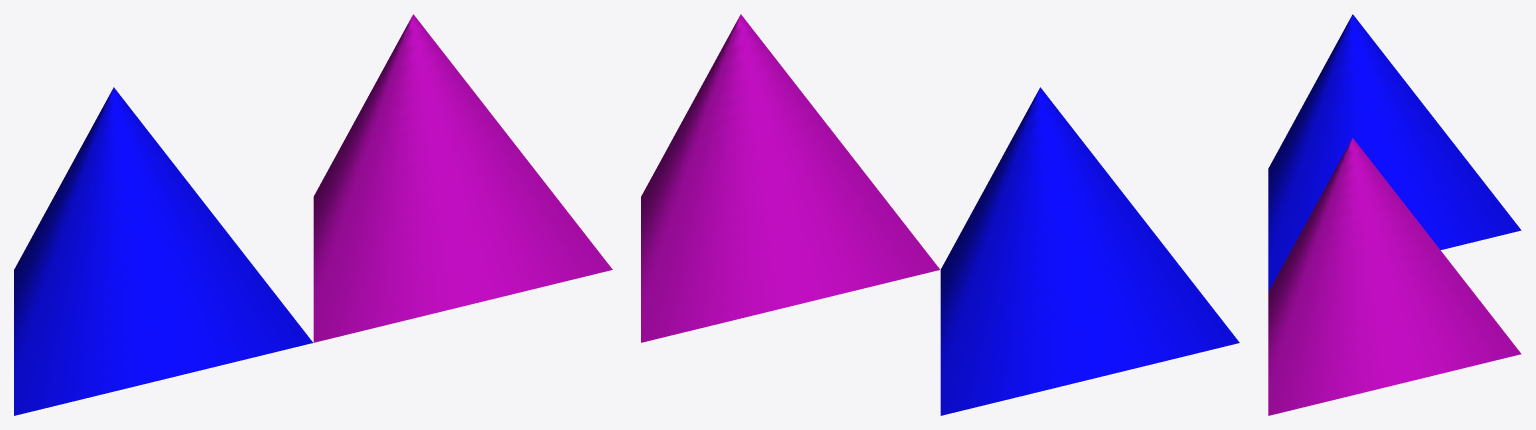
The picture shows the model from 3 angles, left to right: view 1: azimuth 30°, elevation 25°; view 2: azimuth 150°, elevation 25°; view 3: azimuth 270°, elevation 25°; orthographic projection. The views are drawn at different scales.
Bounding box in the file's own units: 4.9 × 2 × 2.12.
